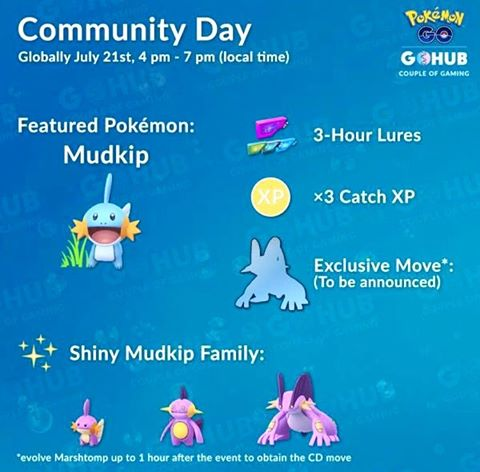mudkip: (66, 166, 148, 267)
